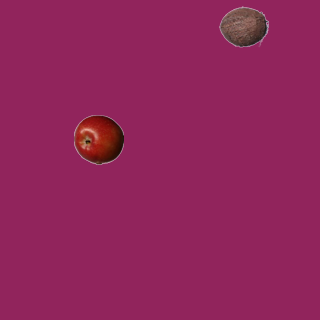Apple Braeburn: (73, 114, 123, 164)
Cocos: (218, 1, 268, 51)
